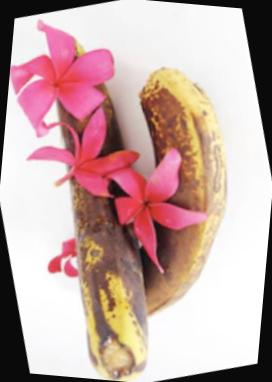Banana Overripe: (0, 10, 246, 382)
